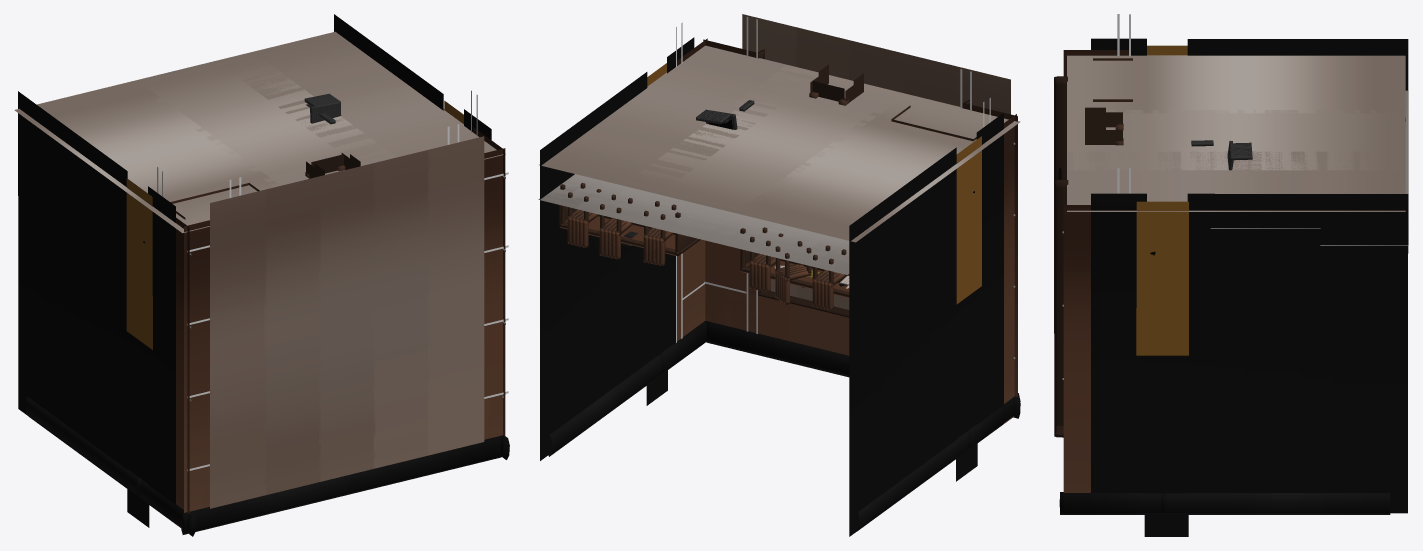
File: School_cropped.fbx
3 renders of one model, left to right at view 1: azimuth 30°, elevation 25°; view 2: azimuth 150°, elevation 25°; view 3: azimuth 270°, elevation 25°, orthographic. The views are drawn at different scales.
Parts seen in each view (by area): view 1: Screen, Wall2, Floor, Wall, Desk, wallLine, Notebook; view 2: Wall2, Floor, Wall, Screen, Stairs, Chair, Desk, wallLine, Notebook; view 3: Wall2, Floor, Wall, Desk, Stairs, Notebook.
Part boxes in pixels (<box>): Screen: <box>210,136,484,508</box>; Wall2: <box>18,14,509,536</box>; Floor: <box>14,31,505,233</box>; Wall: <box>159,127,505,533</box>; Desk: <box>170,153,360,219</box>; wallLine: <box>157,90,508,470</box>; Notebook: <box>304,93,341,124</box>; Wall2: <box>540,37,1020,536</box>; Floor: <box>539,45,1020,242</box>; Wall: <box>677,38,1017,435</box>; Screen: <box>742,14,1010,309</box>; Stairs: <box>538,174,849,274</box>; Chair: <box>567,183,846,310</box>; Desk: <box>559,64,976,297</box>; wallLine: <box>676,17,1015,358</box>; Notebook: <box>621,100,849,288</box>; Wall2: <box>1059,38,1408,536</box>; Floor: <box>1058,55,1405,211</box>; Wall: <box>1054,50,1128,492</box>; Desk: <box>1085,58,1132,145</box>; Stairs: <box>1210,90,1408,245</box>; Notebook: <box>1191,140,1252,170</box>.
Bounding box in the file's own units: 0.0428 × 0.0459 × 0.0406.
